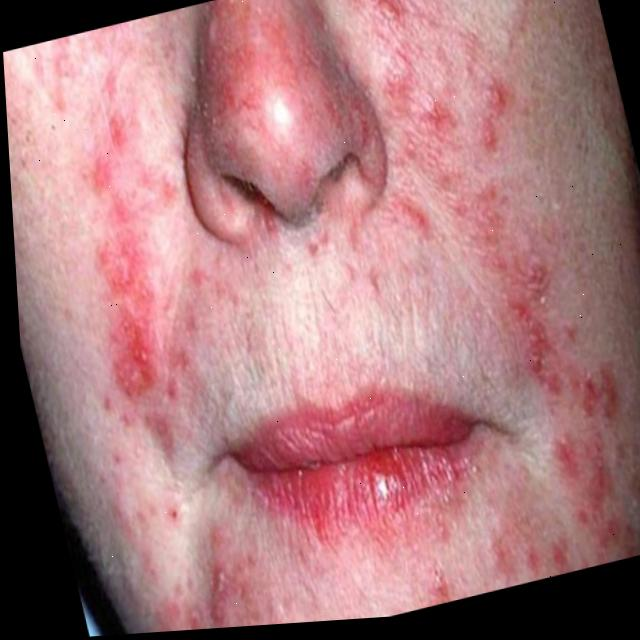Rosacea: (1, 2, 320, 640), (335, 0, 640, 594), (173, 0, 378, 192)
